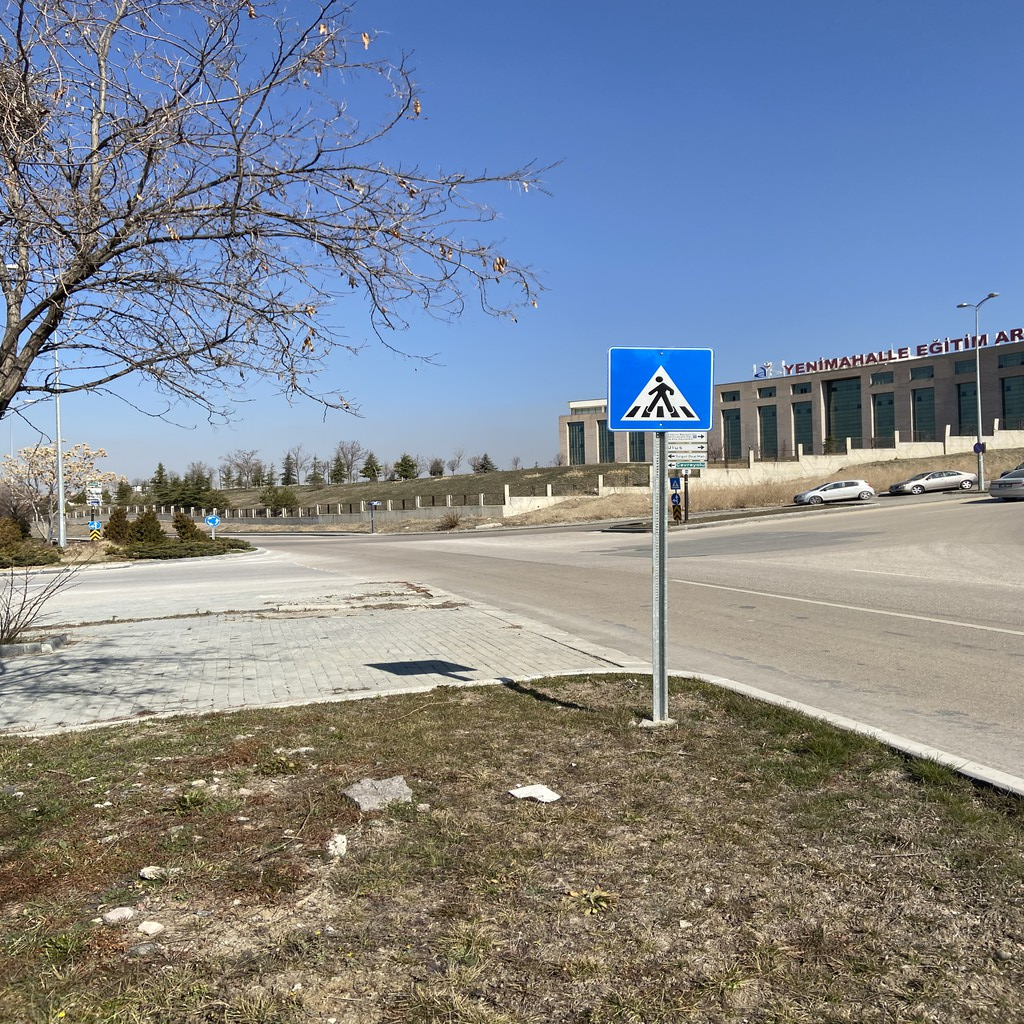Yaya Gecidi: (601, 349, 711, 425)
